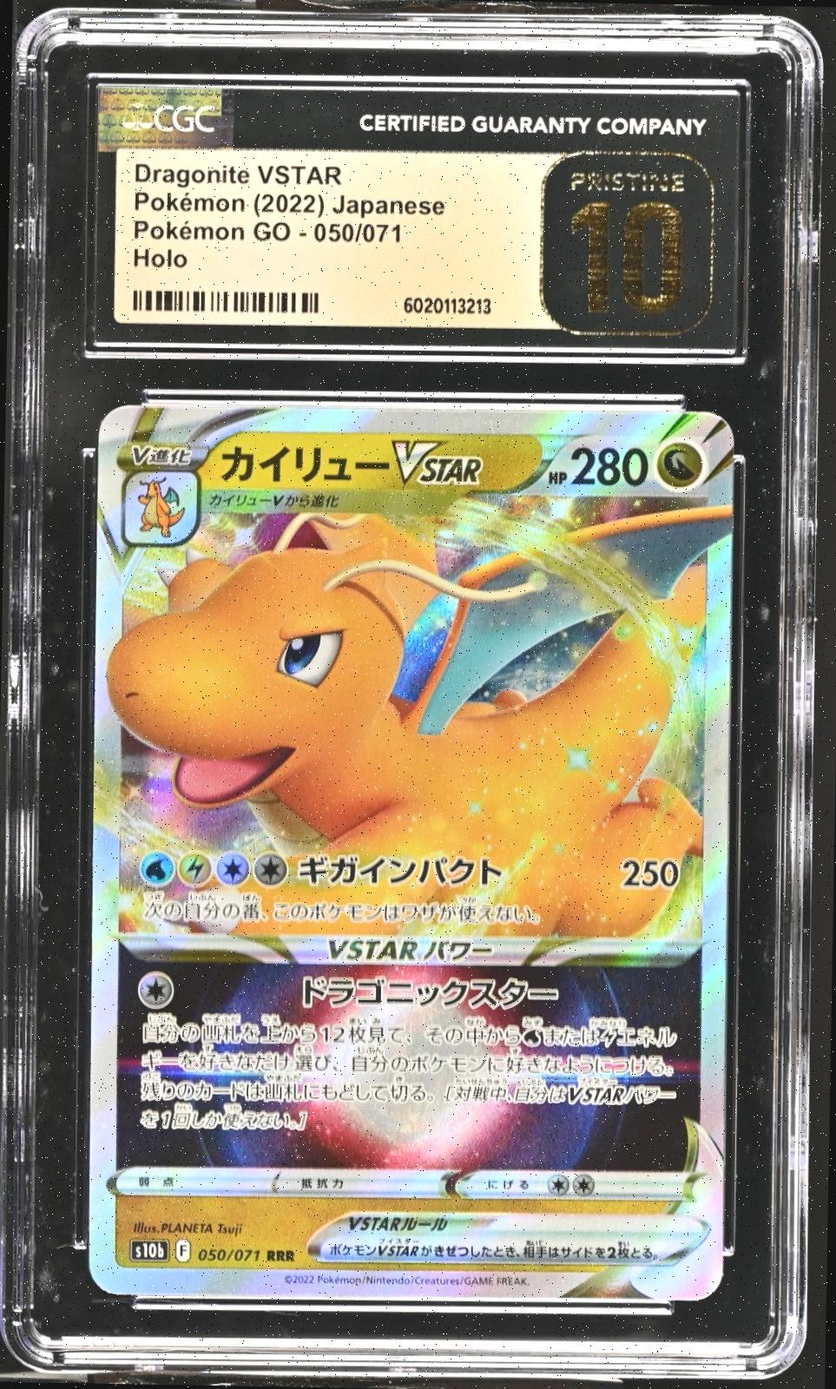card-2UtV: (87, 405, 734, 1302)
